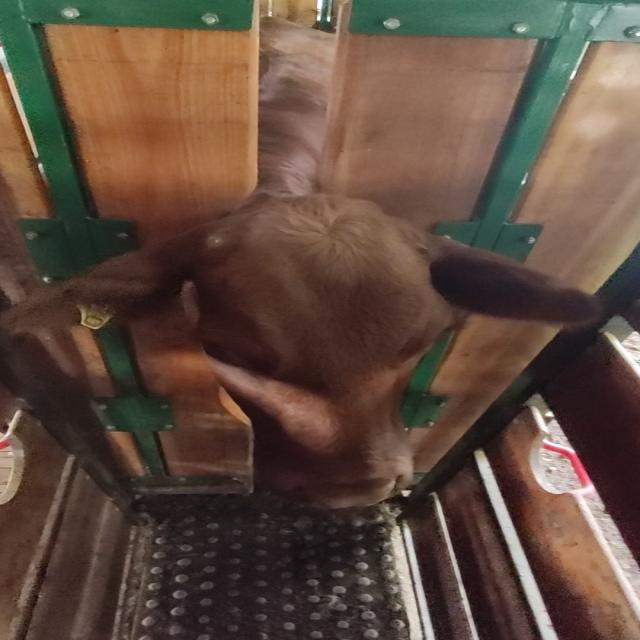cowFace: (194, 198, 461, 508)
